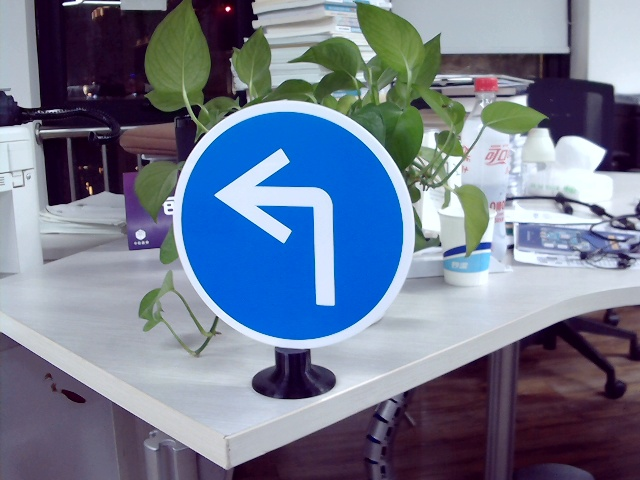turn_left: (213, 146, 348, 307)
